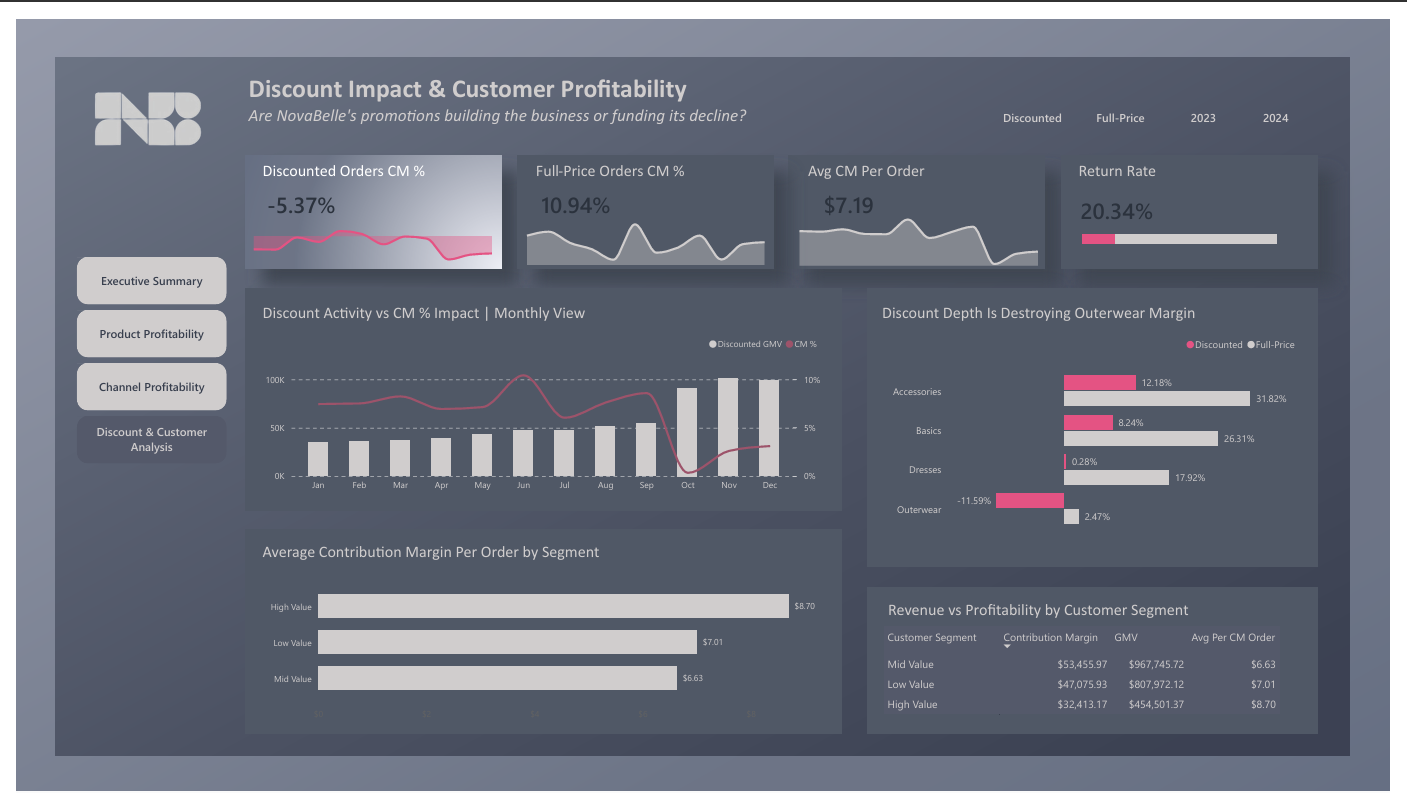

Layout of this report page (visuals, bound fields, positions):
{"tool":"powerbi","page":{"name":"Discount & Customer Analysis","canvas":[1920,1080],"ordinal":3},"visuals":[{"type":"advancedSlicerVisual","fields":{"Values":["dim_date.year"]},"box":[1612.6,115.8,195.3,43.2],"z":0},{"type":"clusteredBarChart","fields":{"Series":["fact_orders.order_type"],"Y":["all_measures.cm %"],"Category":["dim_products.category"]},"box":[1203.8,424.7,604.2,320.3],"z":1000},{"type":"pivotTable","fields":{"Rows":["dim_customers.customer_segment"],"Values":["all_measures.contribution_margin","all_measures.gmv","all_measures.avg_cm_per_order"]},"box":[1197,833.6,617.8,170.3],"z":2000},{"type":"clusteredBarChart","fields":{"Category":["dim_customers.customer_segment"],"Y":["all_measures.avg_cm_per_order"]},"box":[333.9,760.9,806.3,222.6],"z":3000},{"type":"lineClusteredColumnComboChart","fields":{"Y":["all_measures.discounted_gmv"],"Category":["dim_date.month_name"],"Y2":["all_measures.cm %"]},"box":[331.6,424.7,808.6,254.4],"z":4000},{"type":"hundredPercentStackedBarChart","fields":{"Y":["all_measures.return_rate","all_measures.return_rate_base"]},"box":[1474.1,263.5,304.4,81.8],"z":5000},{"type":"pageNavigator","box":[85.4,331.8,209.8,290.3],"z":6000},{"type":"cardVisual","fields":{"Data":["all_measures.discounted_cm %"]},"box":[333.9,233.9,129.5,45.4],"z":7000},{"type":"advancedSlicerVisual","fields":{"Values":["fact_orders.order_type"]},"box":[1362.8,115.8,238.5,43.2],"z":8000},{"type":"areaChart","fields":{"Category":["dim_date.month_name"],"Y":["all_measures.full_price_cm %"]},"box":[701.8,243,356.6,99.9],"z":9000},{"type":"areaChart","fields":{"Category":["dim_date.month_name"],"Y":["all_measures.avg_cm_per_order"]},"box":[1083.4,243,356.6,102.2],"z":10000},{"type":"areaChart","fields":{"Category":["dim_date.month_name"],"Y":["all_measures.discounted_cm %"]},"box":[320.3,265.7,356.6,79.5],"z":11000},{"type":"cardVisual","fields":{"Data":["all_measures.full_price_cm %"]},"box":[717.7,233.9,129.5,45.4],"z":12000},{"type":"cardVisual","fields":{"Data":["all_measures.avg_cm_per_order"]},"box":[1099.3,233.9,129.5,45.4],"z":13000},{"type":"cardVisual","fields":{"Data":["all_measures.return_rate"]},"box":[1474.1,243,129.5,45.4],"z":14000}]}

Visuals, with their boxes in screenshot pixels (x1, y1, x2, y2), scaled from the page's 1920x1080 canvas onto the 1407x808 screenshot:
advancedSlicerVisual - dim_date.year: {"left": 1182, "top": 87, "right": 1325, "bottom": 119}
clusteredBarChart - fact_orders.order_type x all_measures.cm %: {"left": 882, "top": 318, "right": 1325, "bottom": 557}
pivotTable - dim_customers.customer_segment x all_measures.contribution_margin: {"left": 877, "top": 624, "right": 1330, "bottom": 751}
clusteredBarChart - dim_customers.customer_segment x all_measures.avg_cm_per_order: {"left": 245, "top": 569, "right": 836, "bottom": 736}
lineClusteredColumnComboChart - all_measures.discounted_gmv x dim_date.month_name: {"left": 243, "top": 318, "right": 836, "bottom": 508}
hundredPercentStackedBarChart - all_measures.return_rate x all_measures.return_rate_base: {"left": 1080, "top": 197, "right": 1303, "bottom": 258}
pageNavigator: {"left": 63, "top": 248, "right": 216, "bottom": 465}
cardVisual - all_measures.discounted_cm %: {"left": 245, "top": 175, "right": 340, "bottom": 209}
advancedSlicerVisual - fact_orders.order_type: {"left": 999, "top": 87, "right": 1173, "bottom": 119}
areaChart - dim_date.month_name x all_measures.full_price_cm %: {"left": 514, "top": 182, "right": 776, "bottom": 257}
areaChart - dim_date.month_name x all_measures.avg_cm_per_order: {"left": 794, "top": 182, "right": 1055, "bottom": 258}
areaChart - dim_date.month_name x all_measures.discounted_cm %: {"left": 235, "top": 199, "right": 496, "bottom": 258}
cardVisual - all_measures.full_price_cm %: {"left": 526, "top": 175, "right": 621, "bottom": 209}
cardVisual - all_measures.avg_cm_per_order: {"left": 806, "top": 175, "right": 900, "bottom": 209}
cardVisual - all_measures.return_rate: {"left": 1080, "top": 182, "right": 1175, "bottom": 216}
